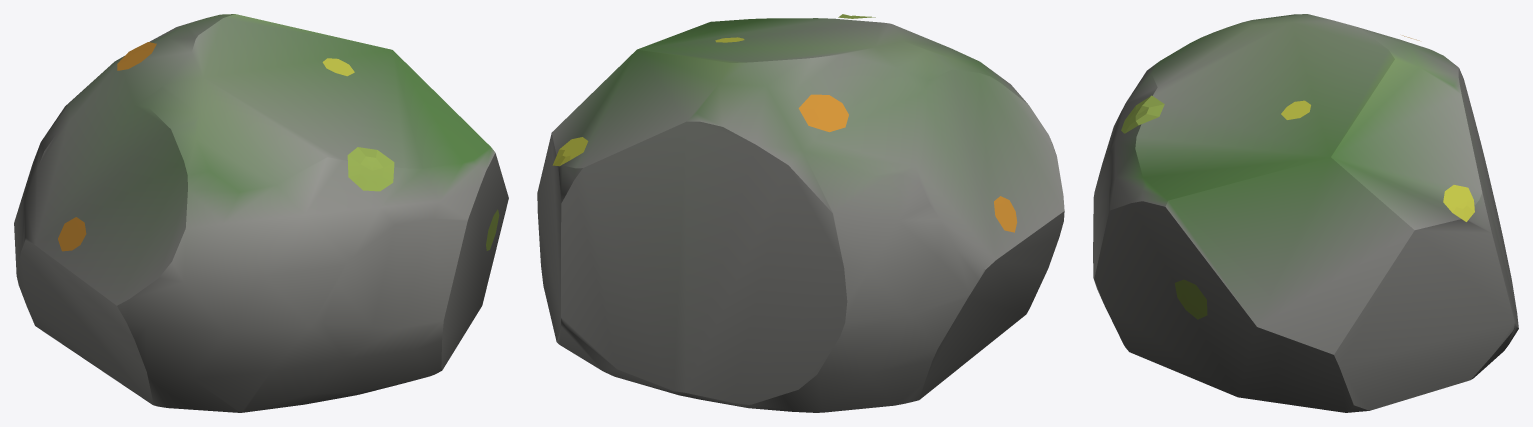
The model's file is mountain_rock_b.glb.
3 renders of one model, left to right at view 1: azimuth 30°, elevation 25°; view 2: azimuth 150°, elevation 25°; view 3: azimuth 270°, elevation 25°, orthographic. The views are drawn at different scales.
Parts seen in each view (by area): view 1: mountain_rock_b; view 2: mountain_rock_b; view 3: mountain_rock_b.
Part boxes in pixels (x1,y1,x2,y2): mountain_rock_b: (14,14,508,412); mountain_rock_b: (537,14,1064,412); mountain_rock_b: (1093,14,1518,412).
Bounding box in the file's own units: 0.7701 × 0.4564 × 0.6635.
